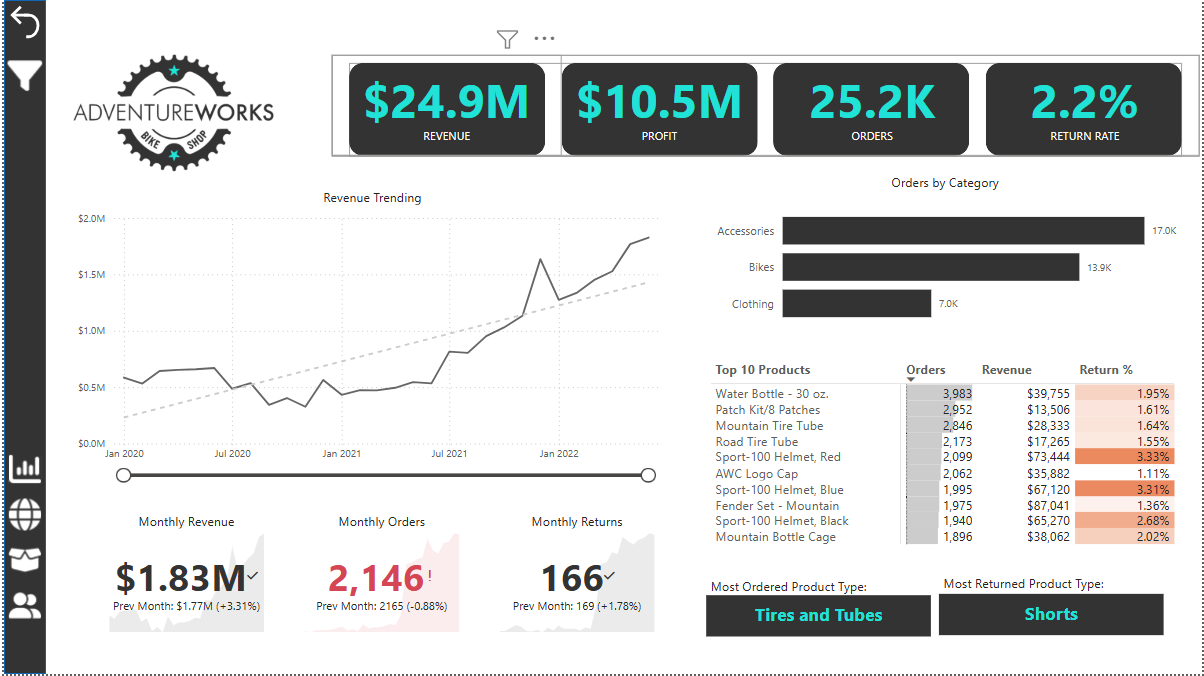

The page's visual inventory and layout, read from the dashboard file:
{"tool":"powerbi","page":{"name":"Exec Dashboard","canvas":[1280,720],"ordinal":0},"visuals":[{"type":"shape","title":"Left Nav Background","box":[0,0,45,719.9],"z":0},{"type":"card","fields":{"Values":["Measure Table.Total Revenue"]},"box":[350,58.6,245.3,107.4],"z":0,"group":"g2"},{"type":"group","id":"g1","title":"KPI Backgrounds","box":[368.9,67.6,889.2,99.4],"z":0,"group":"g3"},{"type":"shape","box":[1048.6,67.6,209.5,99.4],"z":0,"group":"g1"},{"type":"actionButton","box":[1.3,527.9,62.3,42.4],"z":0,"group":"g4"},{"type":"image","title":"AW Logo","box":[45.1,35.8,271.8,169.7],"z":1000},{"type":"group","id":"g2","title":"KPI Values","box":[350,58.6,927.2,107.4],"z":1000,"group":"g3"},{"type":"card","fields":{"Values":["Measure Table.Return Rate"]},"box":[1031.4,58.6,245.7,107.1],"z":1000,"group":"g2"},{"type":"shape","box":[822.1,67.6,209.5,99.4],"z":1000,"group":"g1"},{"type":"actionButton","box":[1.3,576.5,62.3,42.4],"z":1000,"group":"g4"},{"type":"group","id":"g3","title":"KPIs","box":[350,58.6,927.2,108.4],"z":2000},{"type":"card","fields":{"Values":["Measure Table.Total Profit"]},"box":[576.8,58.6,245.7,107.1],"z":2000,"group":"g2"},{"type":"shape","box":[595.5,67.6,209.5,99.4],"z":2000,"group":"g1"},{"type":"actionButton","box":[1.3,625.1,62.3,42.4],"z":2000,"group":"g4"},{"type":"card","fields":{"Values":["Measure Table.Total Orders"]},"box":[804.1,58.6,245.7,107.1],"z":3000,"group":"g2"},{"type":"shape","box":[368.9,67.6,209.5,99.4],"z":3000,"group":"g1"},{"type":"lineChart","title":"Revenue Trending","fields":{"Y":["Measure Table.Total Revenue"],"Category":["Calendar Lookup.Year","Calendar Lookup.Start of Quarter.Variation.Date Hierarchy.Quarter","Calendar Lookup.Start of Quarter.Variation.Date Hierarchy.Month","Calendar Lookup.Date Hierarchy.Start of Month"]},"box":[72.9,201.4,641.4,317.1],"z":3000},{"type":"actionButton","box":[1.3,479.3,62.3,42.4],"z":3000,"group":"g4"},{"type":"kpi","title":"Monthly Revenue","fields":{"Indicator":["Measure Table.Total Revenue"],"TrendLine":["Calendar Lookup.Start of Month"],"Goal":["Measure Table.Previous Month Revenue"]},"box":[107.1,547.1,175.7,132.9],"z":4000},{"type":"kpi","title":"Monthly Orders","fields":{"TrendLine":["Calendar Lookup.Start of Month"],"Indicator":["Measure Table.Total Orders"],"Goal":["Measure Table.Previous Month Orders"]},"box":[315.7,547.1,175.7,132.9],"z":5000},{"type":"kpi","title":"Monthly Returns","fields":{"TrendLine":["Calendar Lookup.Start of Month"],"Indicator":["Measure Table.Total Returns"],"Goal":["Measure Table.Previous Month Returns"]},"box":[524.3,547.1,175.7,132.9],"z":6000},{"type":"clusteredBarChart","title":"Orders by Category","fields":{"Category":["Product Categories Lookup.CategoryName"],"Y":["Measure Table.Total Orders"]},"box":[751.7,185.6,507.7,175],"z":7000},{"type":"pivotTable","fields":{"Rows":["Product Lookup.ProductName"],"Values":["Measure Table.Total Orders","Measure Table.Total Revenue","Measure Table.Return Rate"]},"box":[750.3,380.5,507.7,216.1],"z":8000},{"type":"card","fields":{"Values":["Min(Product Subcategories Lookup.SubcategoryName)"]},"box":[750.3,636.3,240,43.7],"z":9000},{"type":"textbox","box":[750.3,611.1,222.7,50.4],"z":10000},{"type":"card","fields":{"Values":["Min(Product Subcategories Lookup.SubcategoryName)"]},"box":[998.2,634.4,240,43.7],"z":11000},{"type":"textbox","box":[998.3,608.5,222.7,50.4],"z":12000},{"type":"actionButton","box":[0,0,45.7,47.1],"z":13000},{"type":"group","id":"g4","title":"Navigation Buttons","box":[1.3,479.3,62.3,188.2],"z":14000},{"type":"actionButton","box":[0,58.3,45.1,45.1],"z":15000}]}

Visuals, with their boxes in screenshot pixels (x1, y1, x2, y2), scaled from the page's 1280x720 canvas onto the 1204x676 screenshot:
"Left Nav Background" shape: (x1=0, y1=0, x2=42, y2=675)
card - Measure Table.Total Revenue: (x1=329, y1=55, x2=560, y2=156)
"KPI Backgrounds" group: (x1=347, y1=63, x2=1183, y2=157)
shape: (x1=986, y1=63, x2=1183, y2=157)
actionButton: (x1=1, y1=496, x2=60, y2=535)
"AW Logo" image: (x1=42, y1=34, x2=298, y2=193)
"KPI Values" group: (x1=329, y1=55, x2=1201, y2=156)
card - Measure Table.Return Rate: (x1=970, y1=55, x2=1201, y2=156)
shape: (x1=773, y1=63, x2=970, y2=157)
actionButton: (x1=1, y1=541, x2=60, y2=581)
"KPIs" group: (x1=329, y1=55, x2=1201, y2=157)
card - Measure Table.Total Profit: (x1=543, y1=55, x2=774, y2=156)
shape: (x1=560, y1=63, x2=757, y2=157)
actionButton: (x1=1, y1=587, x2=60, y2=627)
card - Measure Table.Total Orders: (x1=756, y1=55, x2=987, y2=156)
shape: (x1=347, y1=63, x2=544, y2=157)
"Revenue Trending" lineChart: (x1=69, y1=189, x2=672, y2=487)
actionButton: (x1=1, y1=450, x2=60, y2=490)
"Monthly Revenue" kpi: (x1=101, y1=514, x2=266, y2=638)
"Monthly Orders" kpi: (x1=297, y1=514, x2=462, y2=638)
"Monthly Returns" kpi: (x1=493, y1=514, x2=658, y2=638)
"Orders by Category" clusteredBarChart: (x1=707, y1=174, x2=1185, y2=339)
pivotTable - Product Lookup.ProductName x Measure Table.Total Orders: (x1=706, y1=357, x2=1183, y2=560)
card - Min(Product Subcategories Lookup.SubcategoryName): (x1=706, y1=597, x2=932, y2=638)
textbox: (x1=706, y1=574, x2=915, y2=621)
card - Min(Product Subcategories Lookup.SubcategoryName): (x1=939, y1=596, x2=1165, y2=637)
textbox: (x1=939, y1=571, x2=1149, y2=619)
actionButton: (x1=0, y1=0, x2=43, y2=44)
"Navigation Buttons" group: (x1=1, y1=450, x2=60, y2=627)
actionButton: (x1=0, y1=55, x2=42, y2=97)
